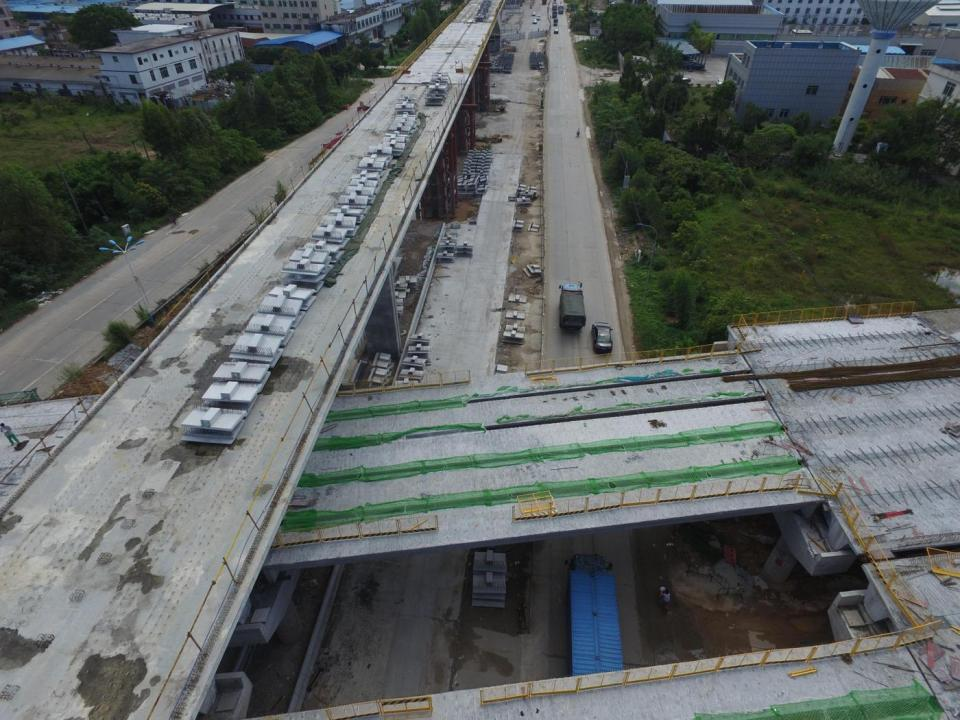bus: (559, 5, 564, 14), (552, 3, 557, 10)
car: (591, 323, 614, 354), (688, 62, 705, 70), (683, 58, 697, 64), (717, 79, 724, 86), (532, 19, 537, 24), (554, 28, 558, 34), (532, 12, 536, 16)
truck: (566, 552, 627, 690), (556, 284, 587, 330), (554, 18, 558, 26), (552, 11, 556, 18)
van: (537, 15, 540, 20)
